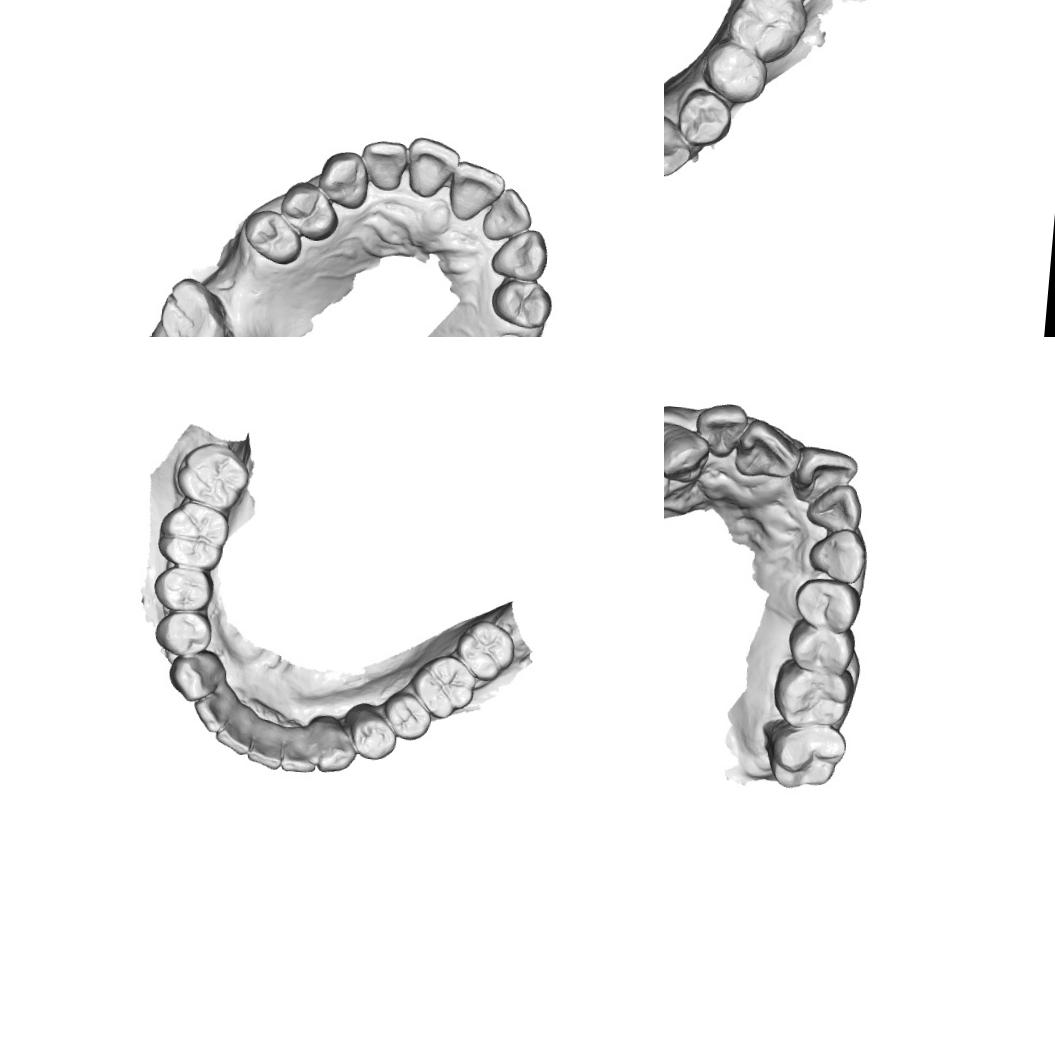canine: (806, 524, 870, 584), (487, 225, 550, 283), (315, 148, 370, 211), (164, 648, 222, 704), (664, 418, 711, 484), (312, 720, 360, 776), (664, 110, 695, 181)
implant: (491, 329, 525, 337)
incisor: (732, 414, 804, 484), (789, 444, 860, 506), (444, 158, 508, 224), (402, 134, 462, 202), (478, 182, 536, 244), (692, 399, 749, 460), (804, 480, 865, 536), (358, 138, 409, 194), (212, 702, 256, 758), (192, 678, 230, 734), (244, 720, 285, 771), (279, 727, 319, 774)
molar: (756, 715, 850, 794), (768, 655, 858, 732), (172, 438, 252, 515), (154, 498, 232, 572), (406, 650, 480, 724), (153, 273, 237, 337), (722, 0, 808, 62), (452, 616, 518, 684)
premolar: (784, 615, 858, 678), (790, 575, 863, 636), (275, 178, 342, 244), (700, 42, 768, 105), (238, 206, 305, 266), (488, 276, 554, 331), (676, 86, 733, 148), (151, 607, 216, 660), (150, 562, 215, 613), (346, 704, 400, 762), (378, 688, 434, 743)
